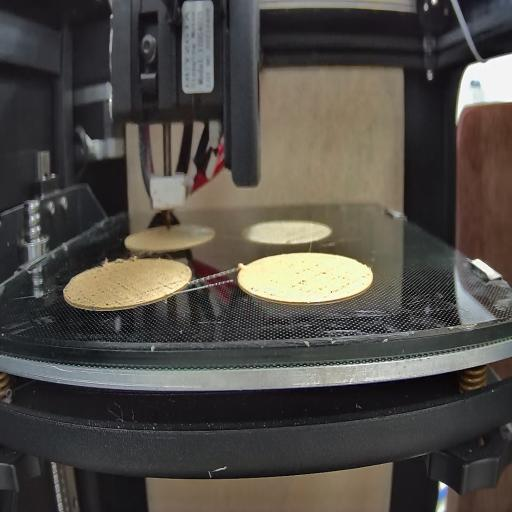under_extrusion: (292, 262, 353, 295), (79, 275, 128, 306), (148, 277, 182, 301), (248, 283, 278, 301)
